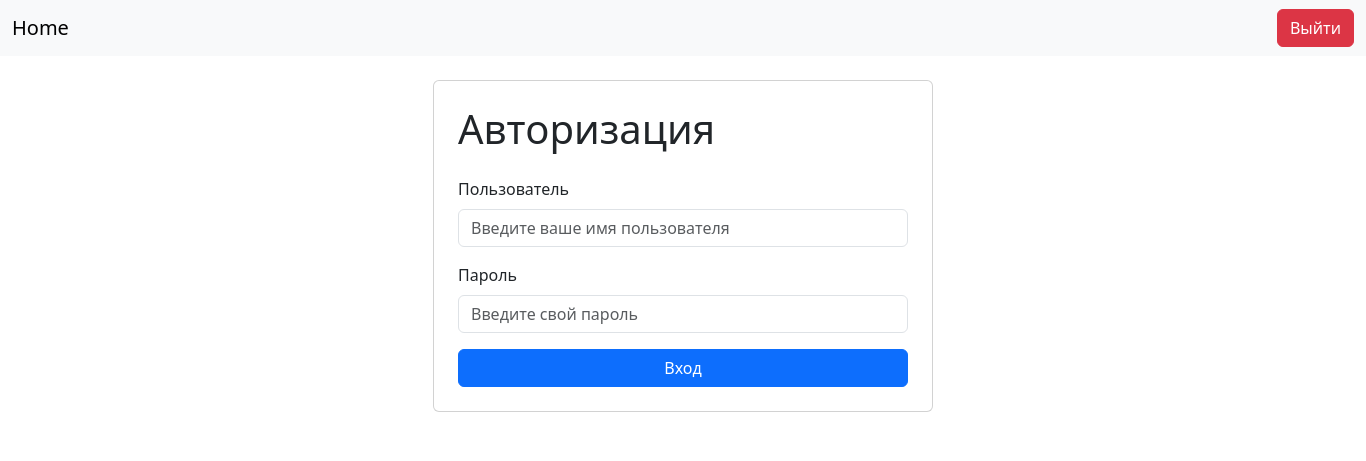
Scenario: LoginView › должен отображать сообщение об ошибке при неправильных данных
The image size is (1366, 461).
Type "invaliduser" into the field with id "username" at [683, 228], box [458,209,908,247]
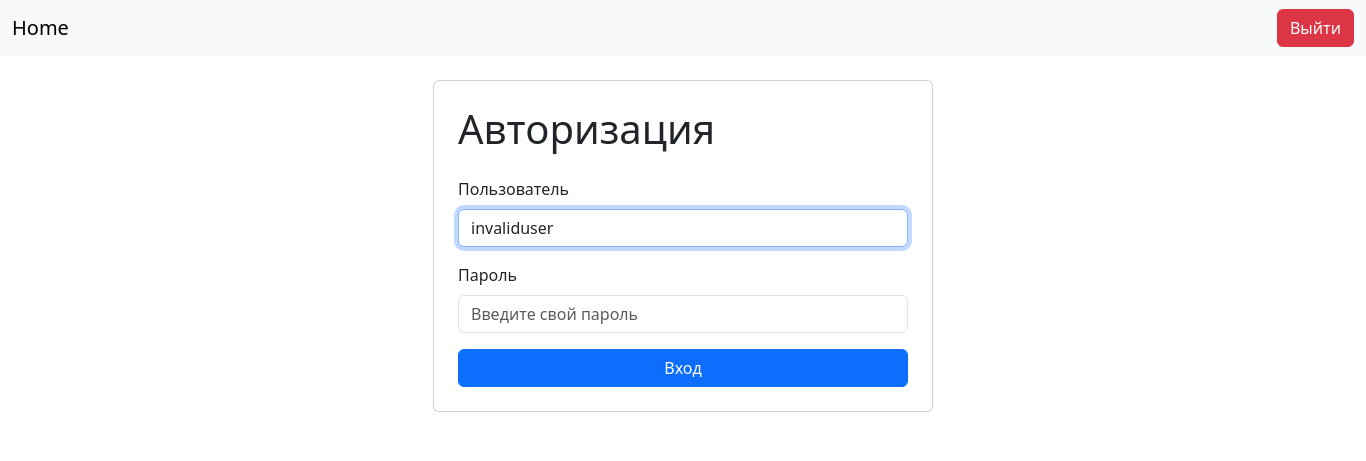
Type "invalidpass" into the password field labelled "Пароль" at [683, 314], box [458,295,908,333]
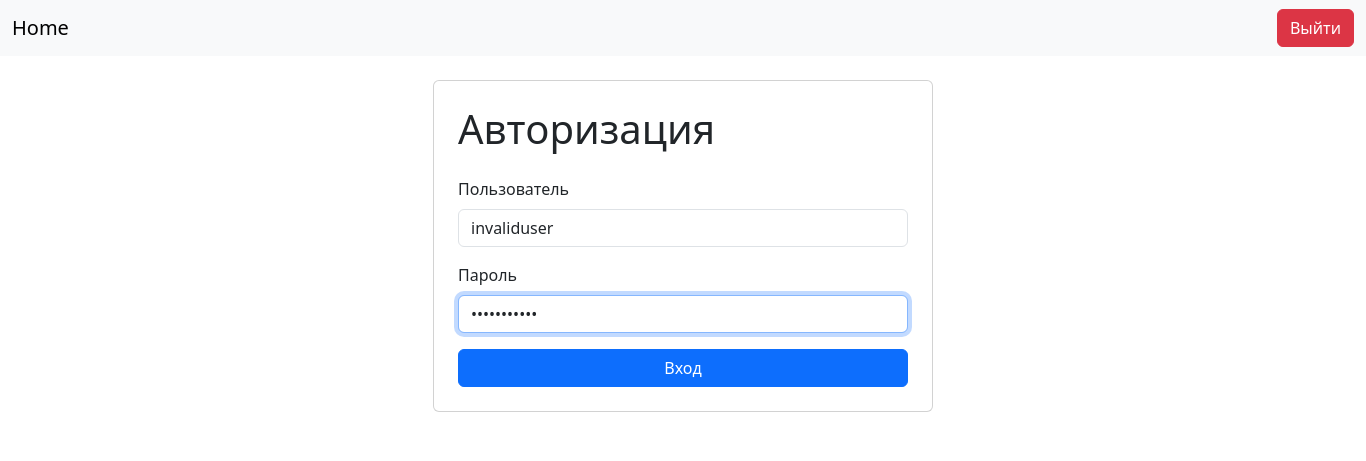
Click the button "Вход" at [683, 368], box [458,349,908,387]
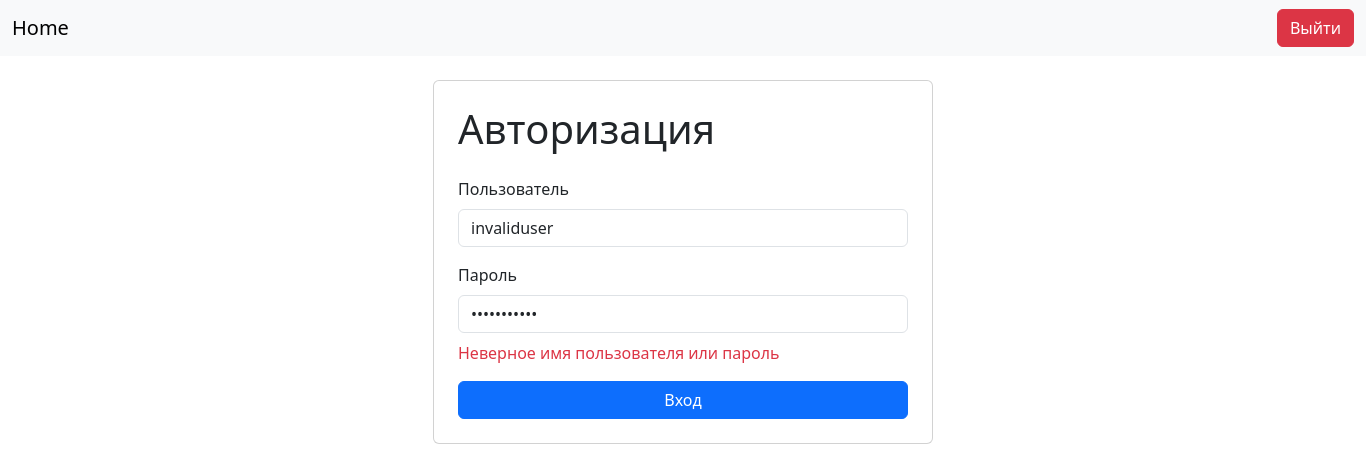
Expected: the text "Неверное имя пользователя или пароль" is shown, [458,342,780,364]
